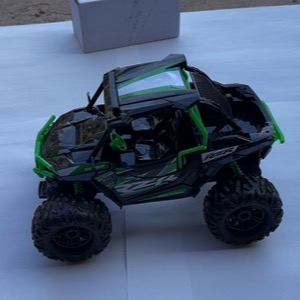polaris: (34, 54, 289, 269)
